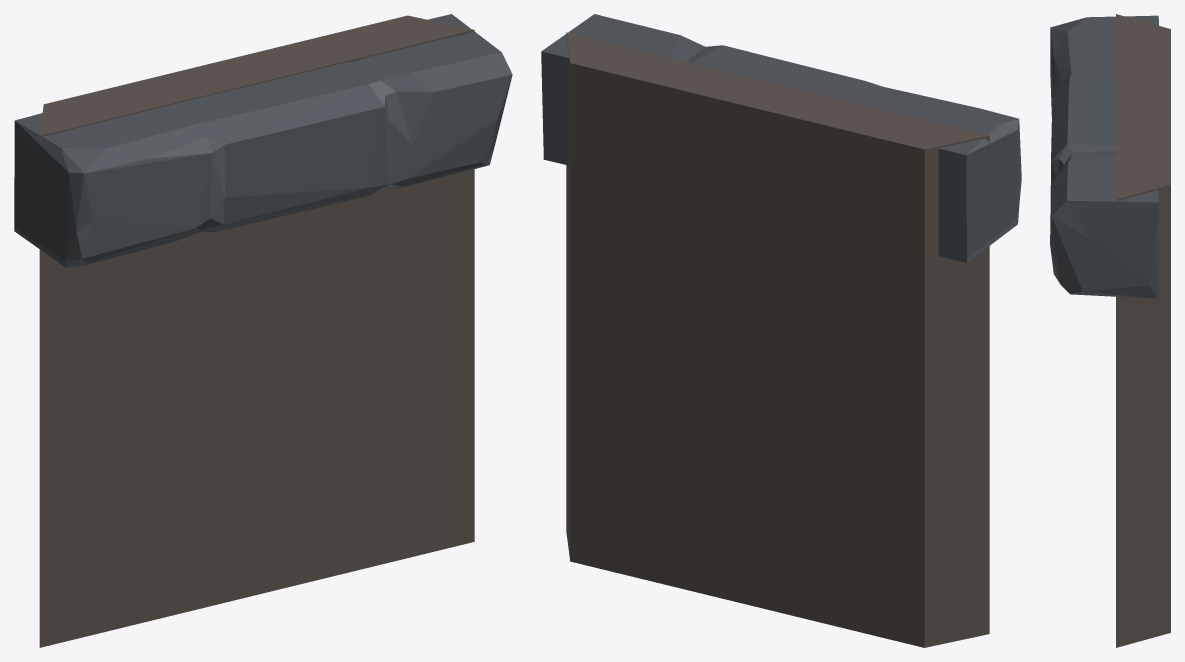
Rendered from MCastle_SquareWalls_HeavyTrim.FBX.
The picture shows the model from 3 angles, left to right: view 1: azimuth 30°, elevation 25°; view 2: azimuth 150°, elevation 25°; view 3: azimuth 270°, elevation 25°; orthographic projection. The views are drawn at different scales.
Parts seen in each view (by area): view 1: MCastle_SquareWalls_HeavyTrim_LOD0; view 2: MCastle_SquareWalls_HeavyTrim_LOD0; view 3: MCastle_SquareWalls_HeavyTrim_LOD0.
Part boxes in pixels (x1,y1,x2,y2): MCastle_SquareWalls_HeavyTrim_LOD0: (14, 14, 512, 647); MCastle_SquareWalls_HeavyTrim_LOD0: (541, 14, 1021, 647); MCastle_SquareWalls_HeavyTrim_LOD0: (1050, 14, 1170, 647).
Size of what is drawn, in the model's own units: 4.03 by 4.5 by 1.1.
